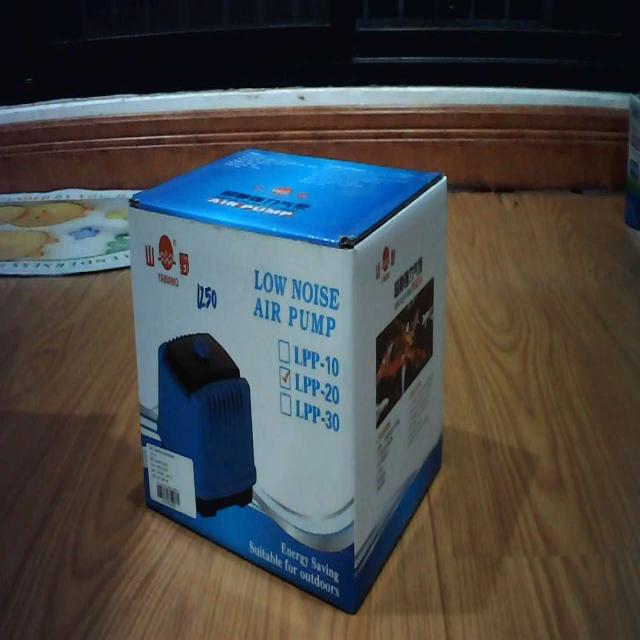YAMANO_LPP_20: (121, 130, 459, 626)
